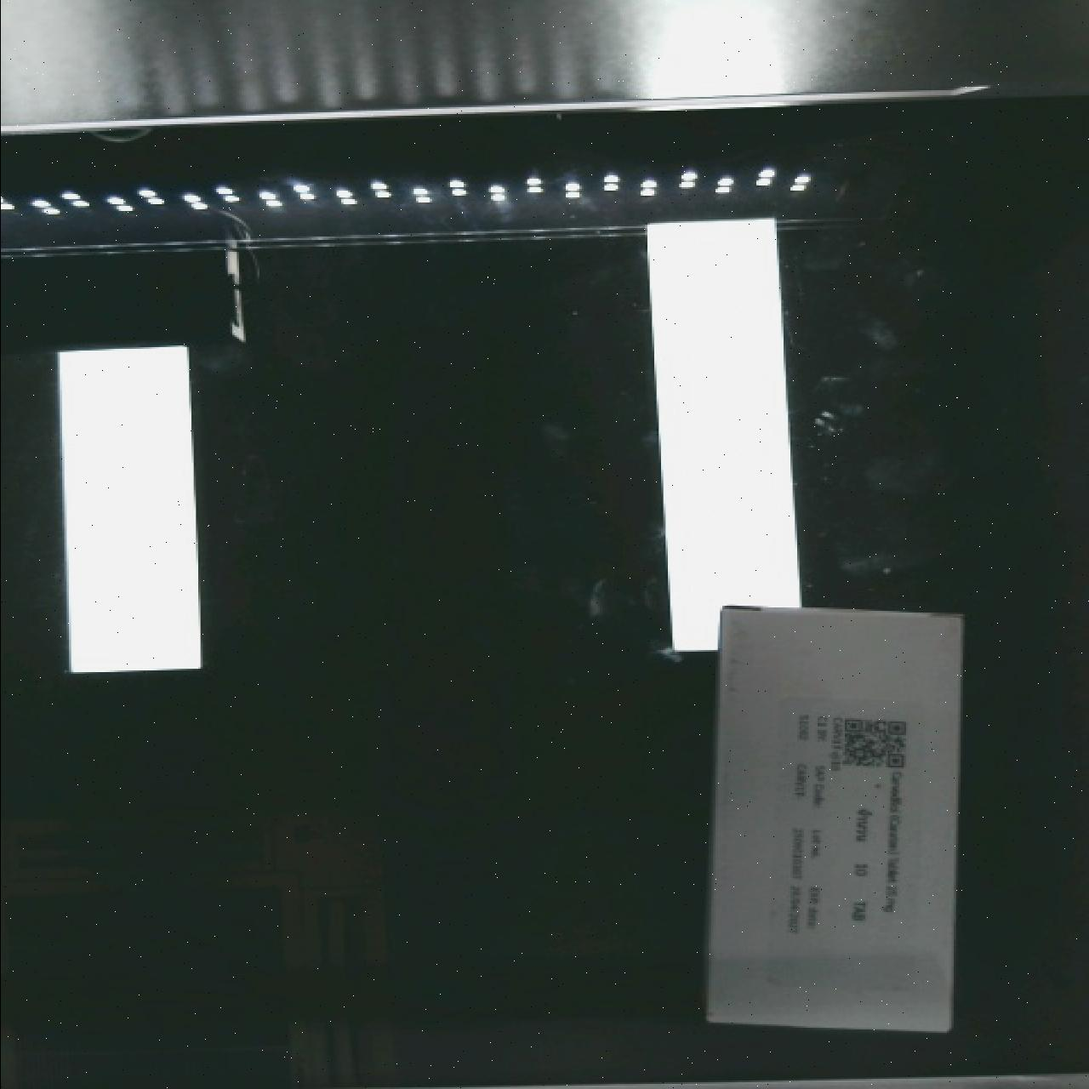qr_code: (832, 704, 914, 777)
